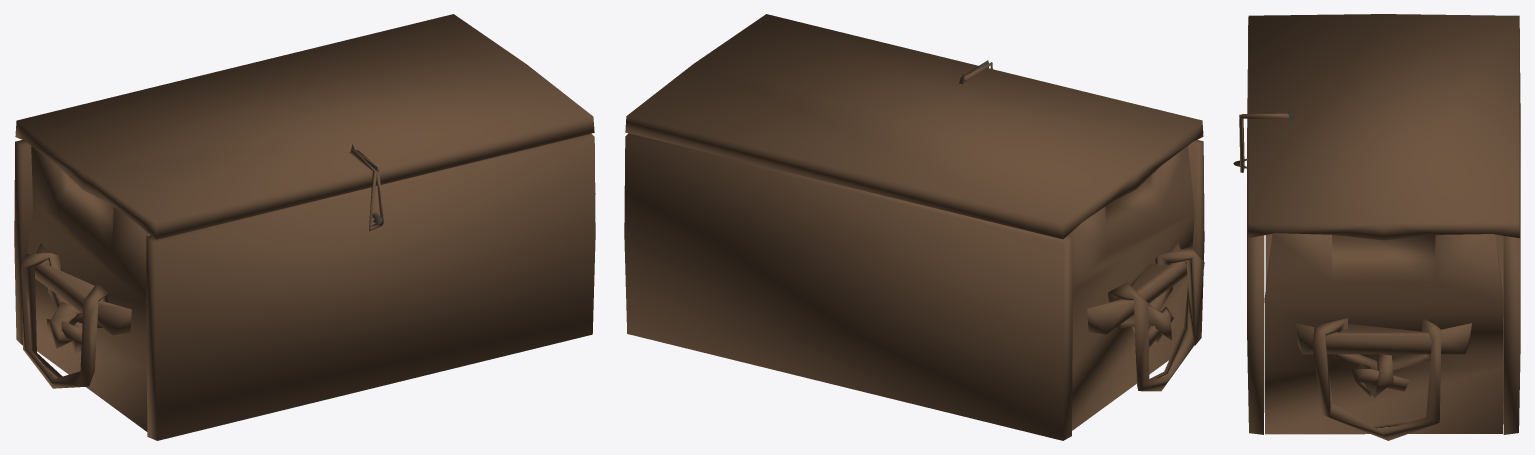
File: plank_box.glb
The picture shows the model from 3 angles, left to right: view 1: azimuth 30°, elevation 25°; view 2: azimuth 150°, elevation 25°; view 3: azimuth 270°, elevation 25°; orthographic projection. The views are drawn at different scales.
Visible parts, largest first — view 1: plank_box; view 2: plank_box; view 3: plank_box.
Part boxes in pixels (left/top/right/bottom): plank_box: left=14, top=14, right=595, bottom=440; plank_box: left=624, top=14, right=1204, bottom=440; plank_box: left=1233, top=14, right=1520, bottom=440.
Size of the model in its own units: 1.4 by 0.6 by 0.6944.
